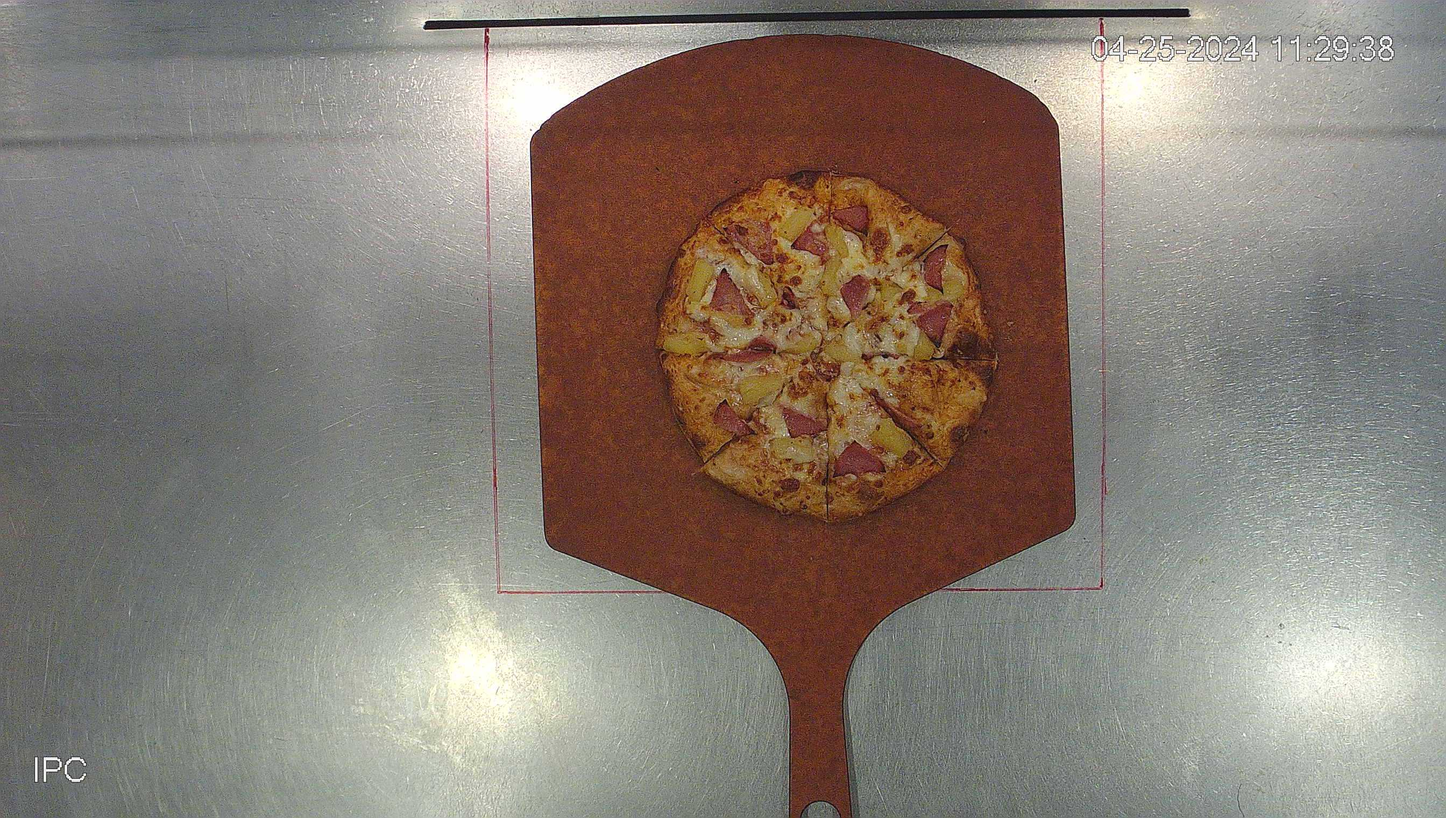manager_choice: (651, 169, 1001, 525)
